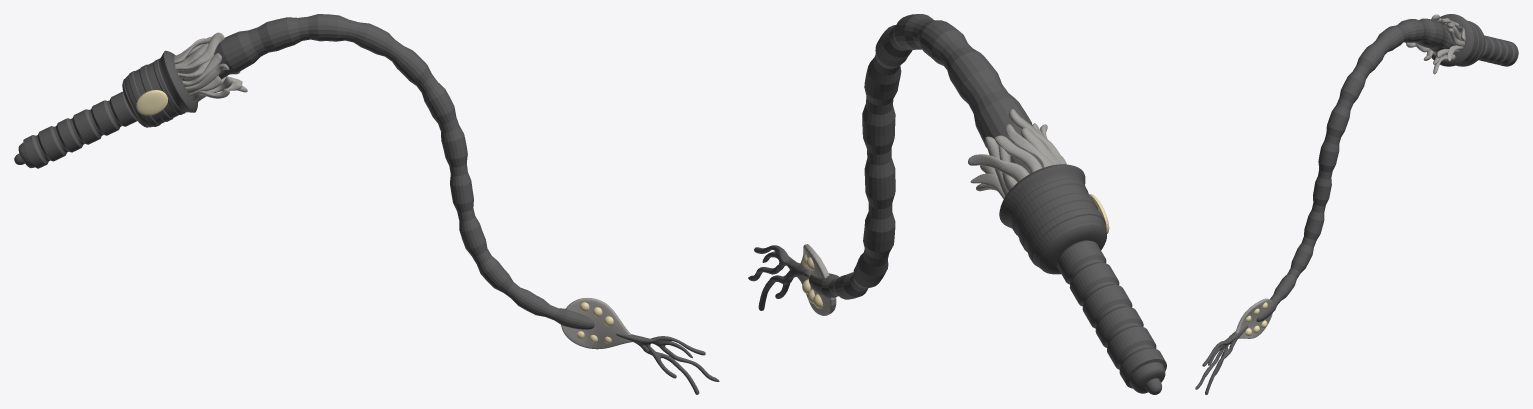
File: COSSACK_WHIP_4#10.glb
The picture shows the model from 3 angles, left to right: view 1: azimuth 30°, elevation 25°; view 2: azimuth 150°, elevation 25°; view 3: azimuth 270°, elevation 25°; orthographic projection. The views are drawn at different scales.
Visible parts, largest first — view 1: Plet4-Material.003, Plet4-Material.005, Plet4-Material.001, Plet4-Material.004, Plet4-Material.29, Plet4-Material.002, Plet4-metal5; view 2: Plet4-Material.003, Plet4-Material.001, Plet4-Material.005, Plet4-Material.004, Plet4-Material.002, Plet4-Material.29, Plet4-metal5.001; view 3: Plet4-Material.003, Plet4-Material.001, Plet4-Material.004, Plet4-Material.005, Plet4-Material.002, Plet4-Material.29.
Part boxes in pixels (bbox=[...]): Plet4-Material.003: bbox=[180, 14, 594, 329]; Plet4-Material.005: bbox=[18, 91, 136, 168]; Plet4-Material.001: bbox=[122, 50, 198, 127]; Plet4-Material.004: bbox=[174, 32, 247, 103]; Plet4-Material.29: bbox=[561, 298, 632, 349]; Plet4-Material.002: bbox=[615, 333, 719, 394]; Plet4-metal5: bbox=[136, 90, 167, 115]; Plet4-Material.003: bbox=[809, 14, 1043, 299]; Plet4-Material.001: bbox=[999, 164, 1106, 274]; Plet4-Material.005: bbox=[1057, 240, 1166, 393]; Plet4-Material.004: bbox=[968, 109, 1066, 198]; Plet4-Material.002: bbox=[748, 245, 808, 310]; Plet4-Material.29: bbox=[797, 244, 836, 315]; Plet4-metal5.001: bbox=[802, 254, 823, 308]; Plet4-Material.003: bbox=[1256, 18, 1455, 321]; Plet4-Material.001: bbox=[1431, 14, 1485, 66]; Plet4-Material.004: bbox=[1406, 14, 1465, 74]; Plet4-Material.005: bbox=[1479, 35, 1518, 66]; Plet4-Material.002: bbox=[1195, 325, 1248, 394]; Plet4-Material.29: bbox=[1235, 298, 1272, 338].
Size of the model in its own units: 3.57 by 2.4 by 2.59.
